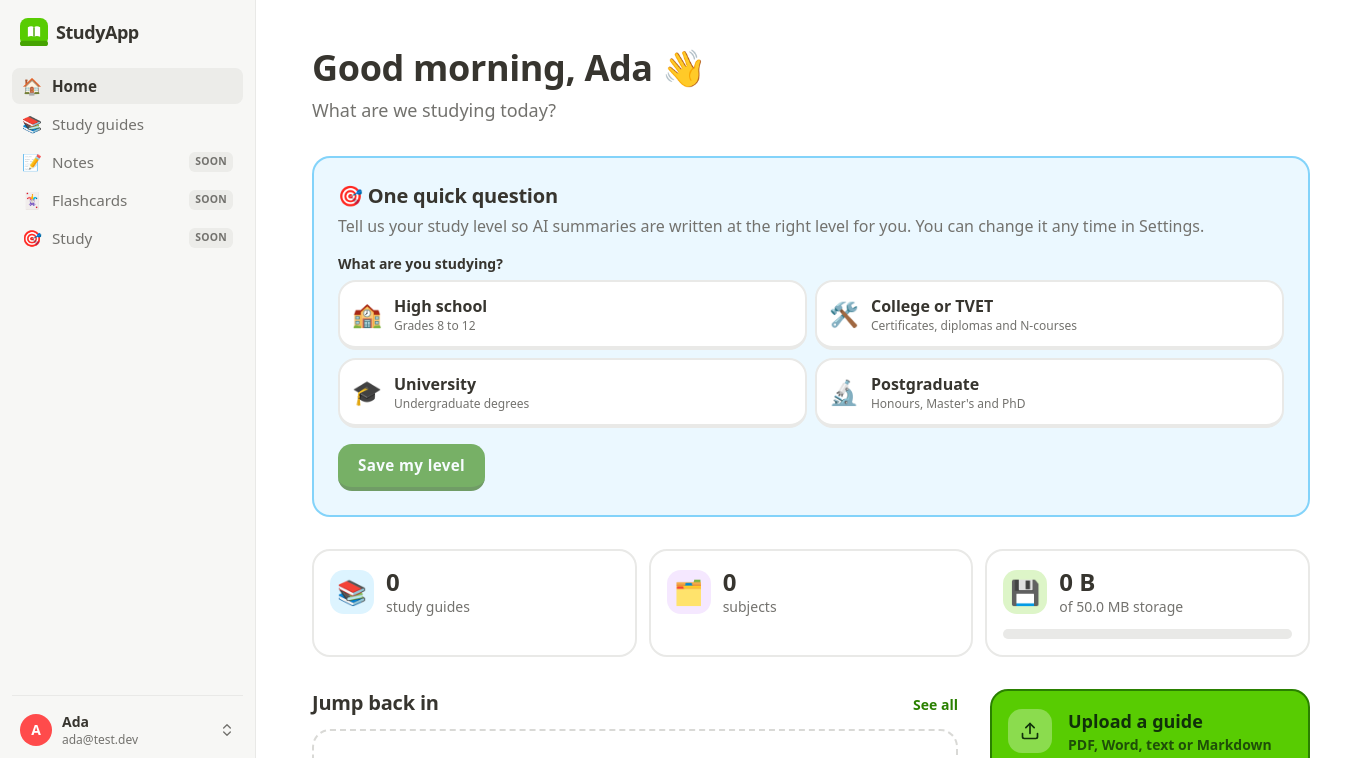
Scenario: home page › asks older accounts for their level, then shows it as a badge
Check: the heading "🎯 One quick question" is shown, box [338,182,558,209]
Click the radio button labelled "🛠️ College or TVET Certificates, diplomas and N-courses": (1050, 315) [815,280,1284,350]
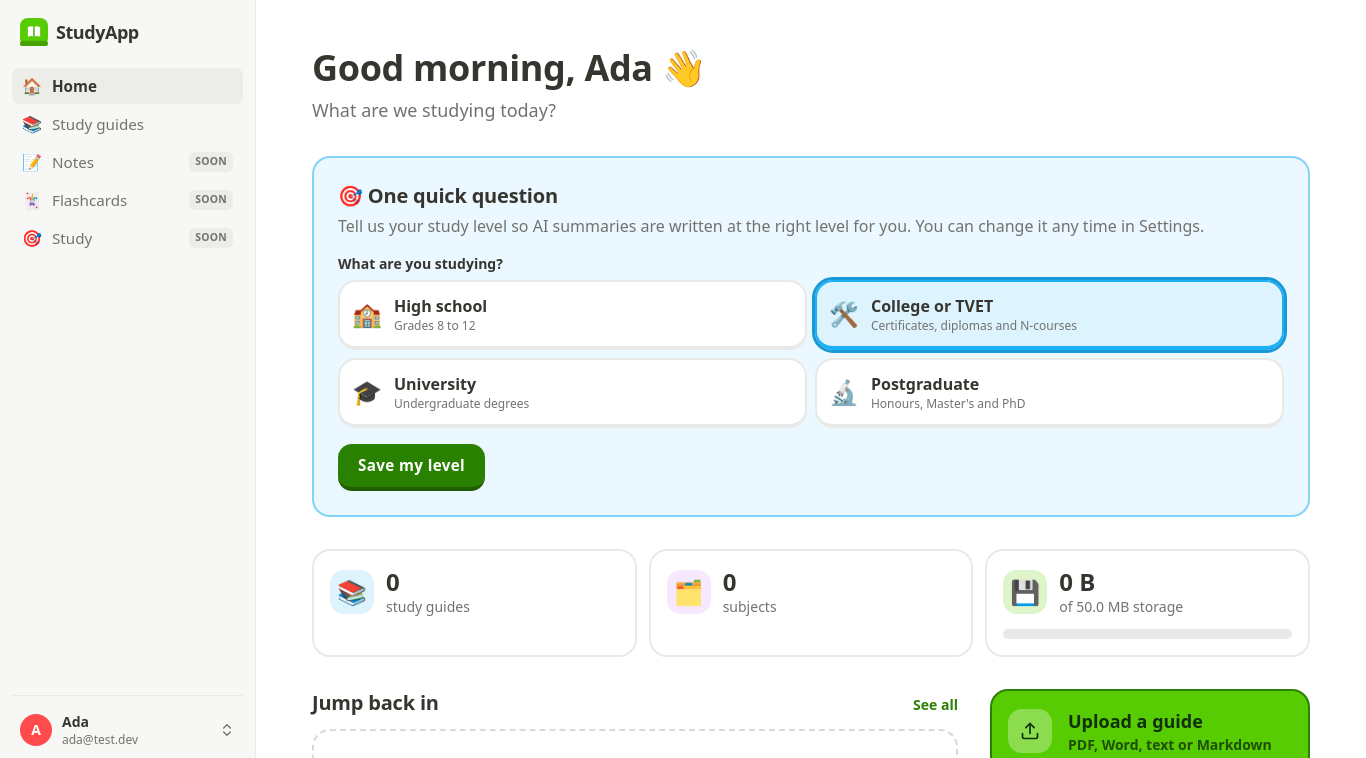
Click the button "Save my level": (412, 467) [338,444,485,491]
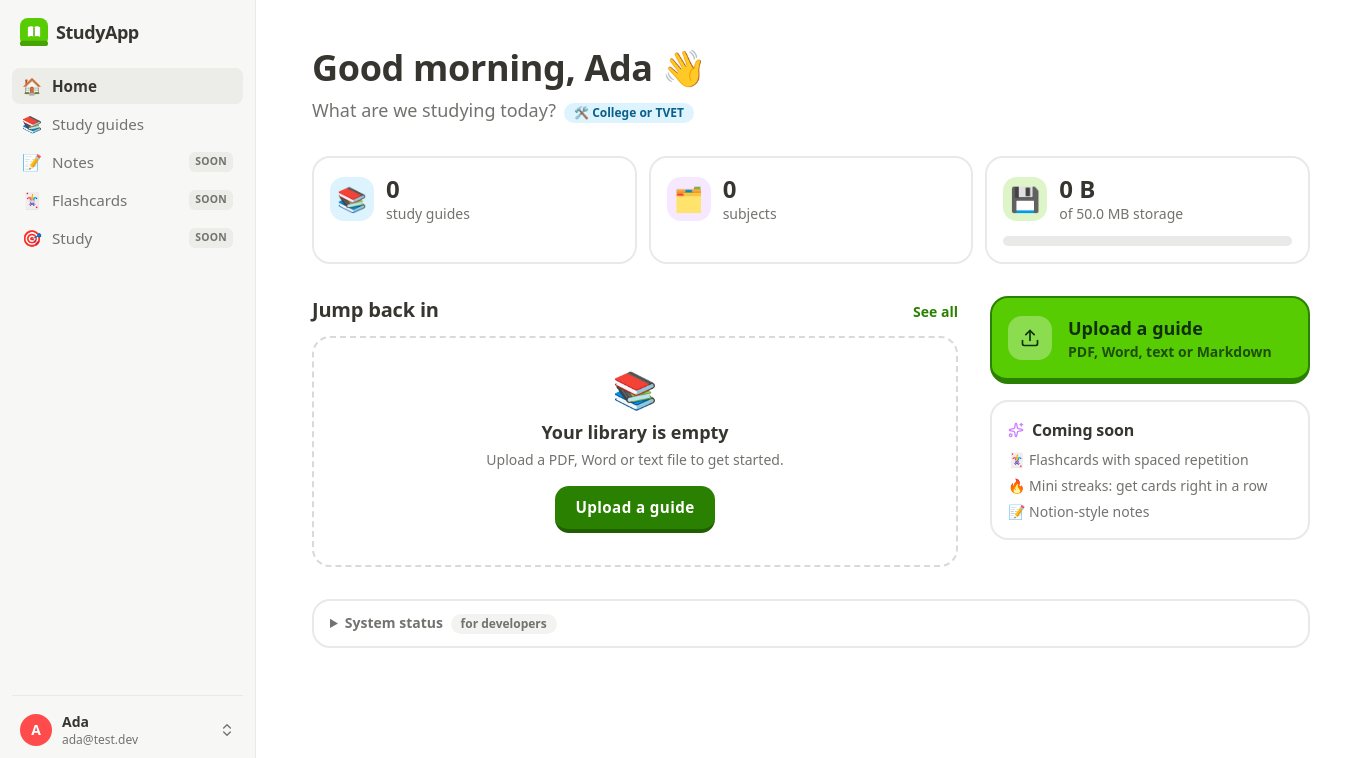
Check: the text "🛠️ College or TVET" is shown, box [564,103,694,123]
Check: the heading "One quick question" is gone
